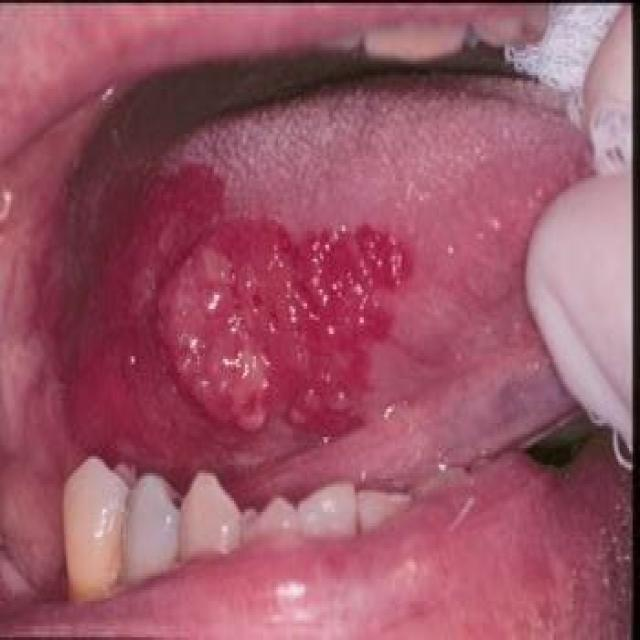Cancer: (120, 208, 363, 446)
